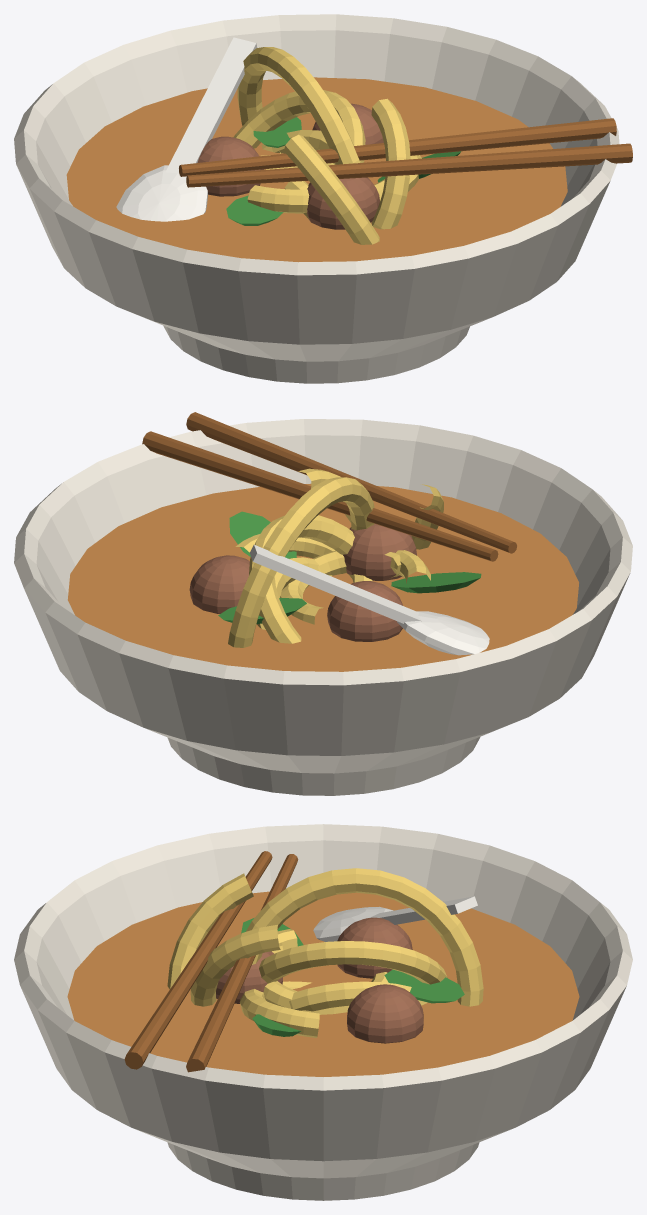
The model's file is noodles.glb.
3 renders of one model, top to bottom at view 1: azimuth 30°, elevation 25°; view 2: azimuth 150°, elevation 25°; view 3: azimuth 270°, elevation 25°, orthographic. The views are drawn at different scales.
Visible parts, largest first — view 1: VesselMesh, NoodleFullBroth, NoodleFullStrands, NoodleChopsticks, NoodleSoupSpoon, NoodleFullMeatballs, NoodleFullGreens, NoodlePartialStrands; view 2: VesselMesh, NoodleFullBroth, NoodleFullStrands, NoodleChopsticks, NoodleFullMeatballs, NoodleSoupSpoon, NoodleFullGreens, NoodlePartialStrands; view 3: VesselMesh, NoodleFullBroth, NoodleFullStrands, NoodleChopsticks, NoodleFullMeatballs, NoodleSoupSpoon, NoodleFullGreens, NoodlePartialStrands.
Part boxes in pixels (<box>): VesselMesh: <box>14,14,619,383</box>; NoodleFullBroth: <box>66,77,567,262</box>; NoodleFullStrands: <box>233,47,421,244</box>; NoodleChopsticks: <box>179,118,632,187</box>; NoodleSoupSpoon: <box>116,37,257,221</box>; NoodleFullMeatballs: <box>197,103,383,229</box>; NoodleFullGreens: <box>226,117,460,225</box>; NoodlePartialStrands: <box>261,130,336,218</box>; VesselMesh: <box>14,419,632,795</box>; NoodleFullBroth: <box>67,483,578,671</box>; NoodleFullStrands: <box>228,468,443,647</box>; NoodleChopsticks: <box>142,412,516,561</box>; NoodleFullMeatballs: <box>189,524,416,641</box>; NoodleSoupSpoon: <box>250,544,489,655</box>; NoodleFullGreens: <box>218,511,481,623</box>; NoodlePartialStrands: <box>257,552,401,629</box>; VesselMesh: <box>14,824,632,1200</box>; NoodleFullBroth: <box>67,891,579,1076</box>; NoodleFullStrands: <box>167,868,483,1037</box>; NoodleChopsticks: <box>124,851,298,1072</box>; NoodleFullMeatballs: <box>216,917,423,1043</box>; NoodleSoupSpoon: <box>313,896,477,941</box>; NoodleFullGreens: <box>241,918,464,1036</box>; NoodlePartialStrands: <box>272,942,427,1011</box>.
Size of the model in its own units: 0.22 by 0.1013 by 0.22.
